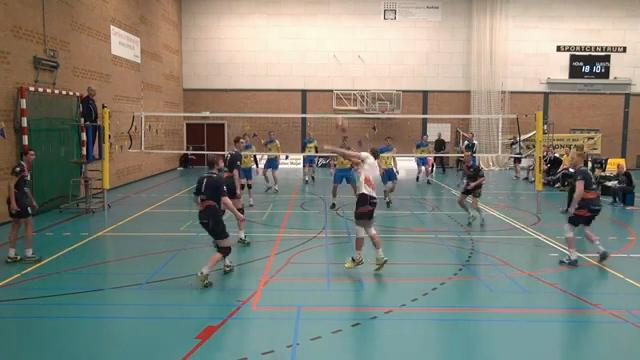ricezione: (320, 137, 393, 278)
